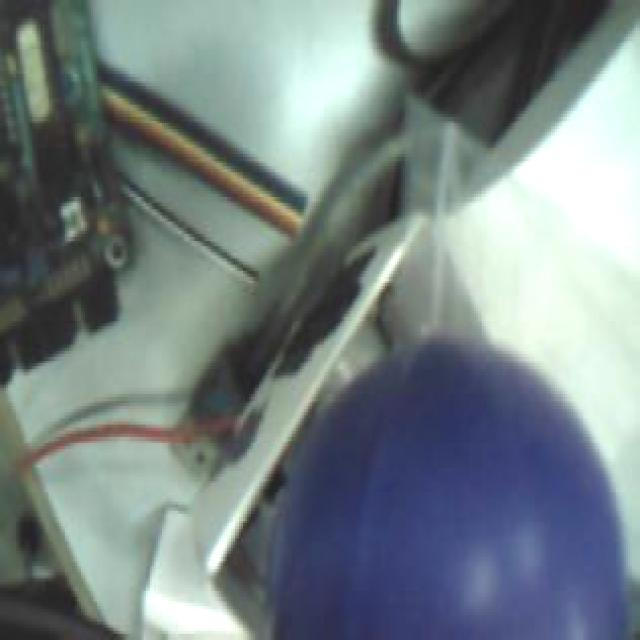BallPurple: (269, 335, 627, 640)
